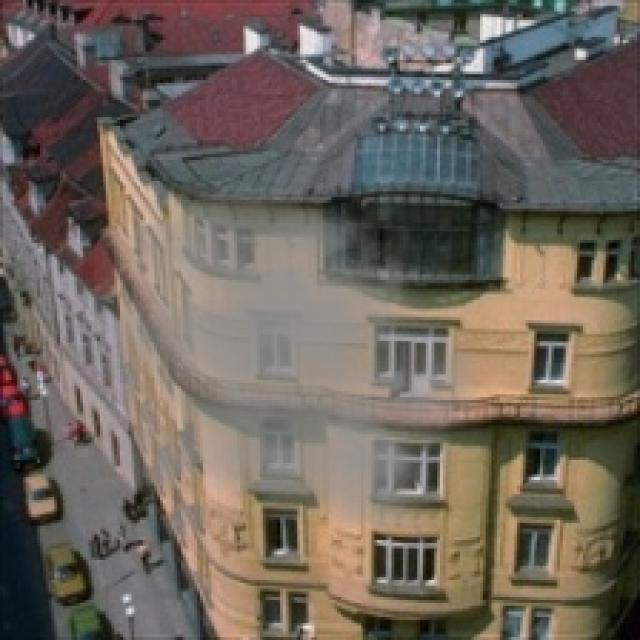Smoke: (94, 182, 497, 528)
